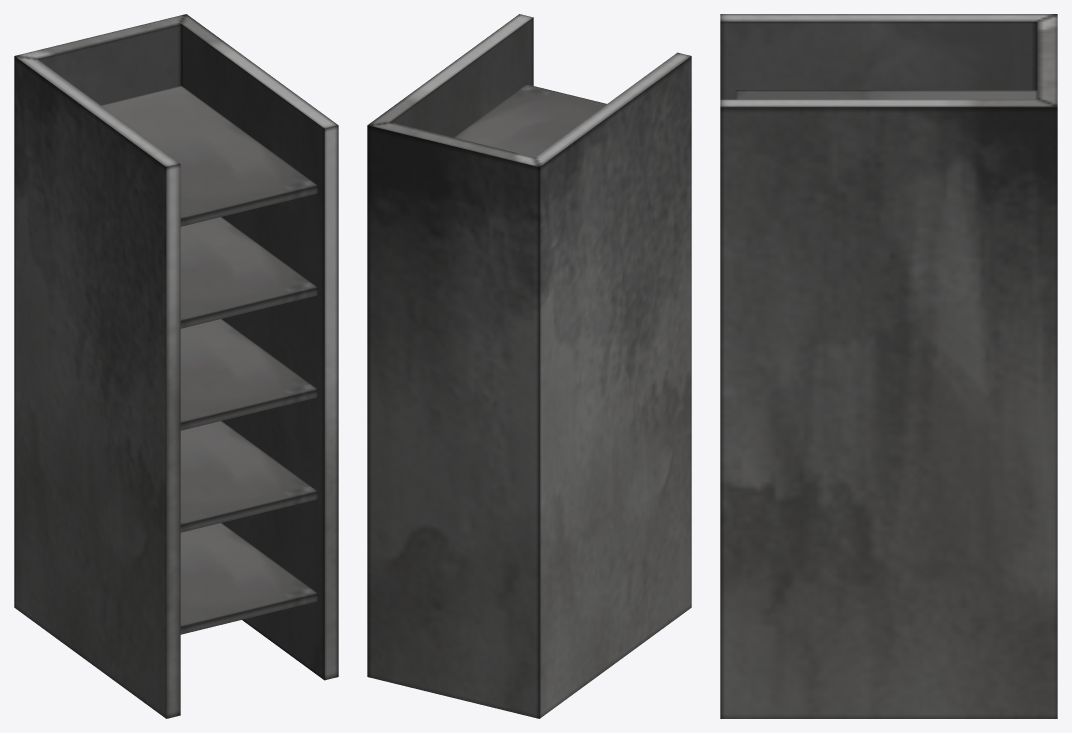
The model's file is TrayRack_Asset.fbx.
3 renders of one model, left to right at view 1: azimuth 30°, elevation 25°; view 2: azimuth 150°, elevation 25°; view 3: azimuth 270°, elevation 25°, orthographic. The views are drawn at different scales.
Visible parts, largest first — view 1: TrayRack; view 2: TrayRack; view 3: TrayRack.
Part boxes in pixels (bbox=[...]): TrayRack: bbox=[14, 14, 338, 718]; TrayRack: bbox=[367, 14, 691, 718]; TrayRack: bbox=[720, 14, 1057, 718].
Size of the model in its own units: 36.99 by 56.59 by 113.
Materials: 1 (1 with a texture image).
